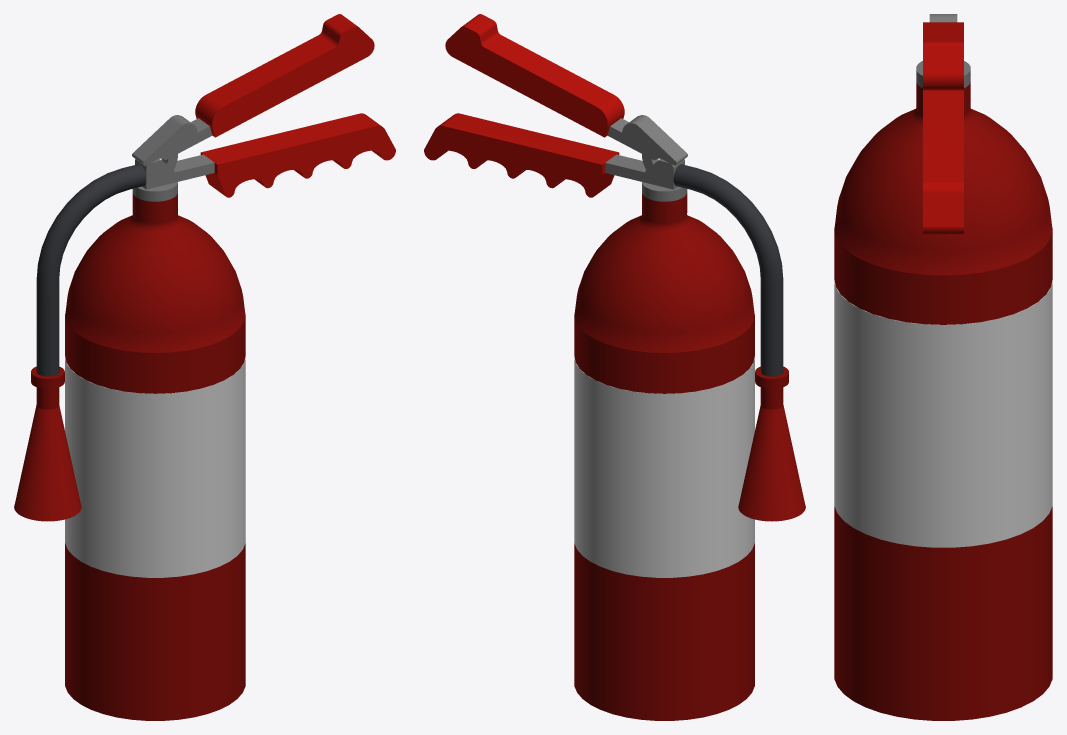
Rendered from Extintor.obj.
The picture shows the model from 3 angles, left to right: view 1: azimuth 30°, elevation 25°; view 2: azimuth 150°, elevation 25°; view 3: azimuth 270°, elevation 25°; orthographic projection. The views are drawn at different scales.
Parts seen in each view (by area): view 1: 3_1, 1_1, 2_1, 5_1, 10_1, 9_1, 7_1, 6_1, 4_1; view 2: 3_1, 1_1, 2_1, 5_1, 10_1, 9_1, 7_1, 6_1, 4_1; view 3: 3_1, 2_1, 1_1, 9_1, 10_1.
Part boxes in pixels (<box>): 3_1: <box>65,356,245,577</box>; 1_1: <box>65,193,245,393</box>; 2_1: <box>65,543,245,720</box>; 5_1: <box>14,164,146,521</box>; 10_1: <box>195,14,374,137</box>; 9_1: <box>200,113,395,197</box>; 7_1: <box>132,115,212,165</box>; 6_1: <box>135,154,214,189</box>; 4_1: <box>132,182,177,201</box>; 3_1: <box>574,356,754,577</box>; 1_1: <box>574,193,754,393</box>; 2_1: <box>574,543,754,720</box>; 5_1: <box>673,164,805,521</box>; 10_1: <box>445,14,624,137</box>; 9_1: <box>424,113,619,197</box>; 7_1: <box>607,115,687,165</box>; 6_1: <box>605,154,684,189</box>; 4_1: <box>642,182,687,201</box>; 3_1: <box>834,280,1052,547</box>; 2_1: <box>834,506,1052,720</box>; 1_1: <box>834,82,1052,324</box>; 9_1: <box>923,90,963,234</box>; 10_1: <box>923,22,963,90</box>.
Size of the model in its own units: 0.6091 by 0.9715 by 0.2581.
